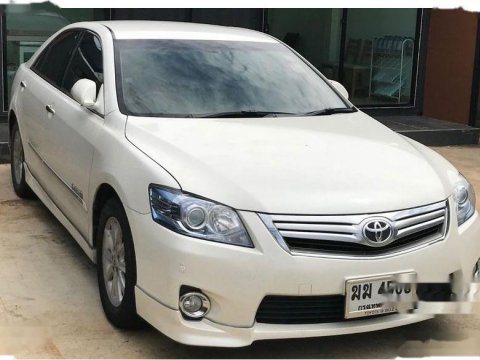sedan: (8, 18, 480, 348)
